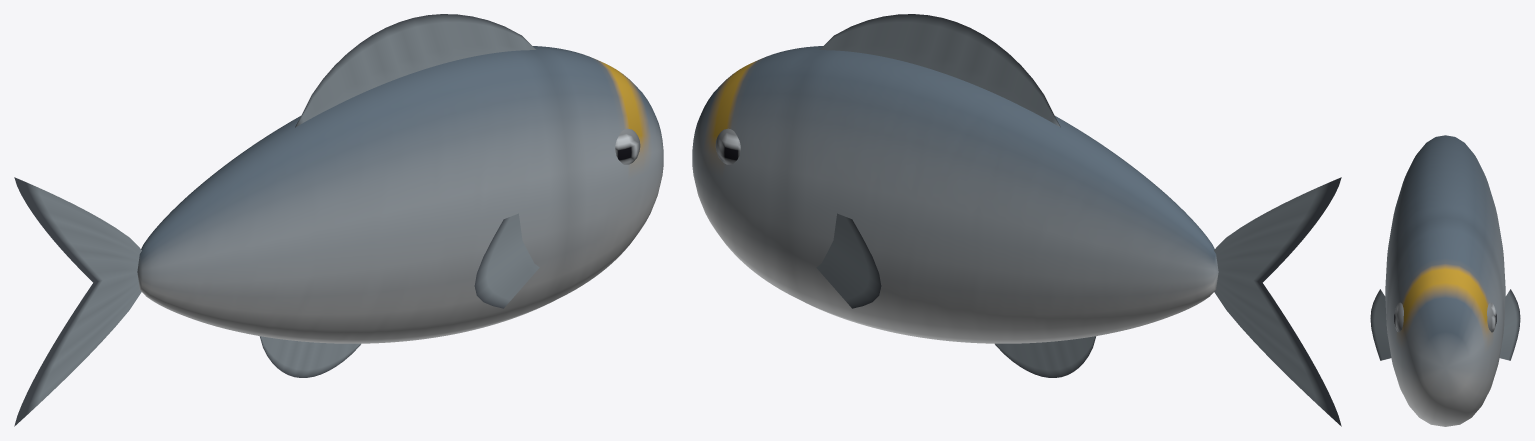
File: cipura.glb
The picture shows the model from 3 angles, left to right: view 1: azimuth 30°, elevation 25°; view 2: azimuth 150°, elevation 25°; view 3: azimuth 270°, elevation 25°; orthographic projection. The views are drawn at different scales.
Visible parts, largest first — view 1: cipura_govde, cipura_kuyruk, cipura_sirt, cipura_gogusL, cipura_anal_a, cipura_gozL; view 2: cipura_govde, cipura_kuyruk, cipura_sirt, cipura_gogusR, cipura_anal_a, cipura_gozR; view 3: cipura_govde, cipura_gogusL, cipura_gogusR, cipura_gozL, cipura_gozR.
Part boxes in pixels (left/top/right/bottom): cipura_govde: left=137, top=46, right=663, bottom=343; cipura_kuyruk: left=14, top=177, right=141, bottom=426; cipura_sirt: left=295, top=14, right=536, bottom=127; cipura_gogusL: left=474, top=213, right=539, bottom=308; cipura_anal_a: left=259, top=336, right=360, bottom=377; cipura_gozL: left=615, top=128, right=640, bottom=164; cipura_govde: left=692, top=46, right=1218, bottom=343; cipura_kuyruk: left=1214, top=177, right=1341, bottom=426; cipura_sirt: left=819, top=14, right=1060, bottom=127; cipura_gogusR: left=816, top=213, right=881, bottom=308; cipura_anal_a: left=995, top=336, right=1096, bottom=377; cipura_gozR: left=715, top=128, right=740, bottom=164; cipura_govde: left=1385, top=135, right=1505, bottom=426; cipura_gogusL: left=1370, top=289, right=1391, bottom=360; cipura_gogusR: left=1499, top=289, right=1520, bottom=360; cipura_gozL: left=1394, top=302, right=1403, bottom=332; cipura_gozR: left=1487, top=302, right=1496, bottom=332.
Bounding box in the file's own units: 1.03 × 0.5088 × 0.2567.
